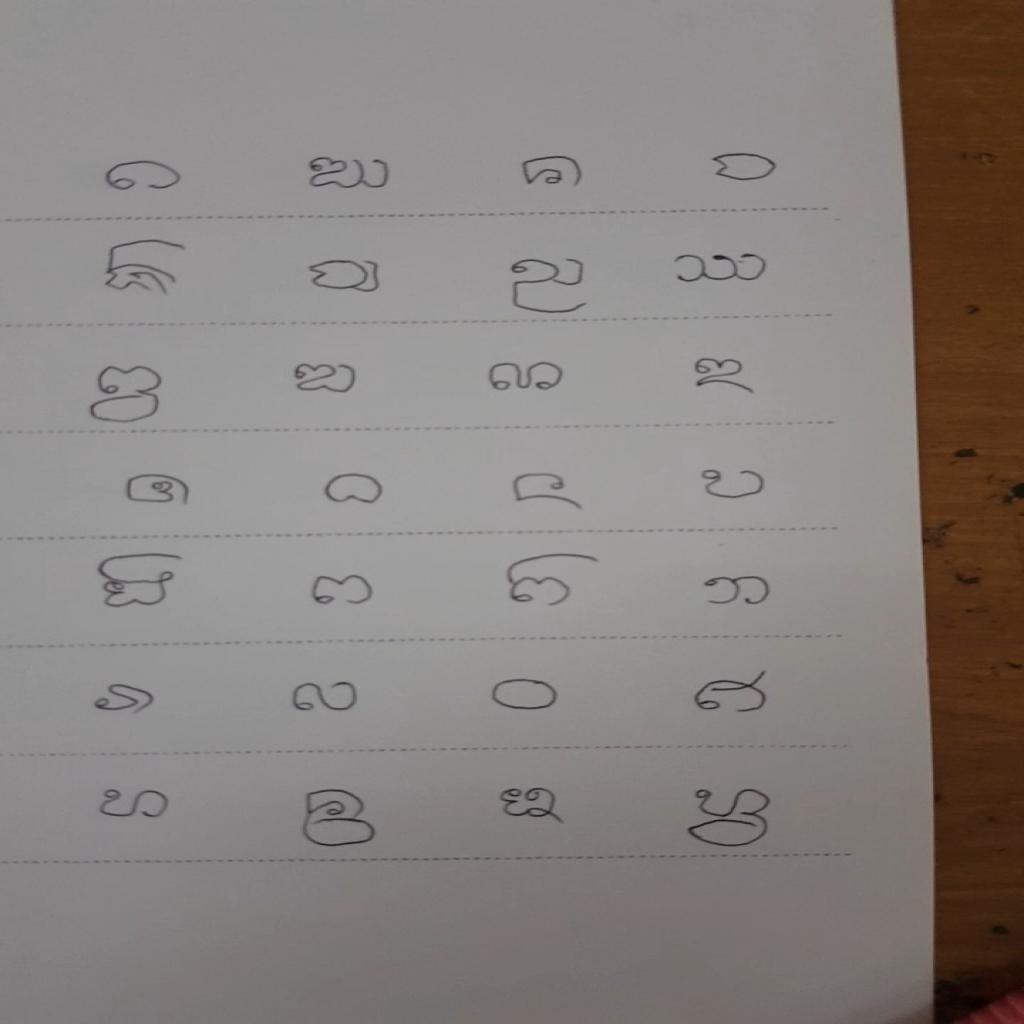LN003: (98, 158, 188, 195)
LN004: (301, 154, 399, 194)
LN005: (510, 152, 590, 196)
LN006: (708, 150, 781, 185)
LN009: (101, 237, 192, 300)
LN010: (303, 257, 387, 297)
LN011: (505, 255, 594, 320)
LN012: (670, 250, 772, 288)
LN015: (84, 362, 170, 428)
LN016: (287, 360, 363, 397)
LN017: (484, 359, 570, 395)
LN018: (690, 356, 759, 398)
LN021: (118, 472, 196, 509)
LN022: (317, 470, 391, 508)
LN023: (509, 470, 587, 514)
LN024: (697, 466, 770, 503)
LN027: (92, 549, 186, 612)
LN028: (306, 571, 381, 609)
LN029: (499, 549, 605, 611)
LN030: (697, 571, 777, 611)
LN033: (88, 680, 163, 717)
LN034: (284, 678, 365, 717)
LN035: (485, 677, 564, 715)
LN036: (687, 667, 775, 718)
LN039: (91, 786, 176, 823)
LN040: (296, 786, 381, 851)
LN041: (495, 783, 567, 827)
LN042: (681, 785, 778, 851)
